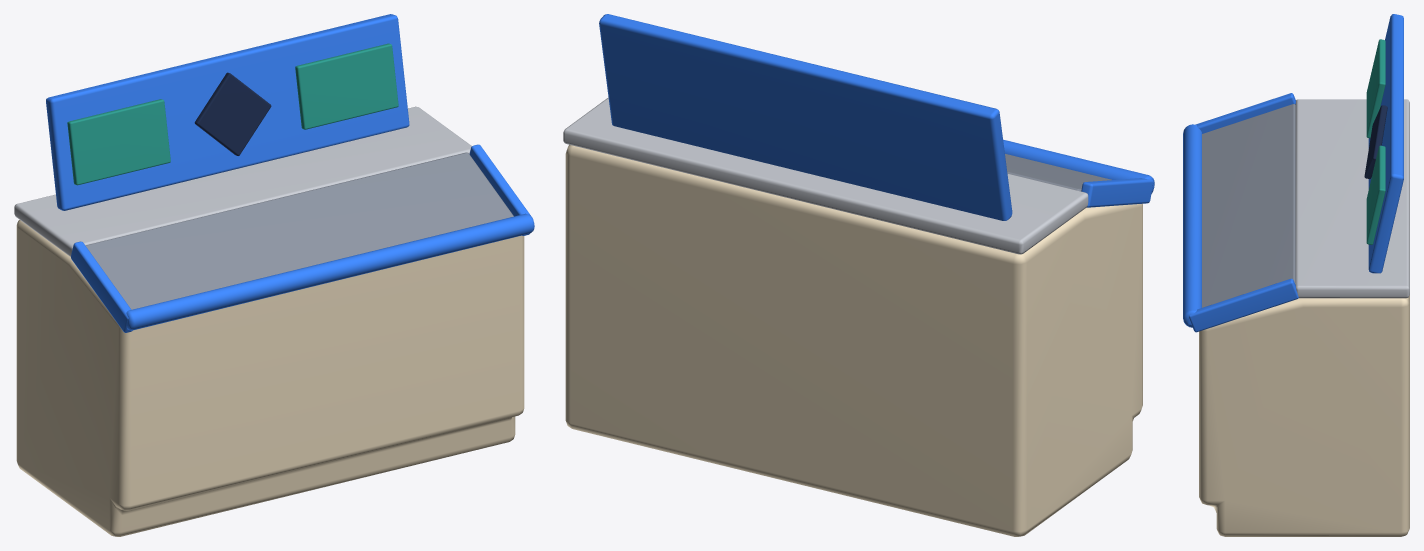
Rendered from Console_MissionPlanner.glb.
3 views of the same model, side by side, from view 1: azimuth 30°, elevation 25°; view 2: azimuth 150°, elevation 25°; view 3: azimuth 270°, elevation 25° (orthographic). The views are drawn at different scales.
Parts seen in each view (by area): view 1: Console_MissionPlanner.Body, Console_MissionPlanner.Panel, Console_MissionPlanner.Board, Console_MissionPlanner.Top, Console_MissionPlanner.Rim, Console_MissionPlanner.Screen_R, Console_MissionPlanner.Screen_L, Console_MissionPlanner.Icon; view 2: Console_MissionPlanner.Body, Console_MissionPlanner.Board, Console_MissionPlanner.Top, Console_MissionPlanner.Rim, Console_MissionPlanner.Panel; view 3: Console_MissionPlanner.Body, Console_MissionPlanner.Top, Console_MissionPlanner.Panel, Console_MissionPlanner.Rim, Console_MissionPlanner.Board, Console_MissionPlanner.Screen_R, Console_MissionPlanner.Screen_L, Console_MissionPlanner.Icon.
Boxes of the visible parts, x1,y1,x2,y2 form: Console_MissionPlanner.Body: (16, 220, 524, 536); Console_MissionPlanner.Panel: (85, 152, 513, 309); Console_MissionPlanner.Board: (46, 14, 409, 210); Console_MissionPlanner.Top: (14, 106, 471, 256); Console_MissionPlanner.Rim: (71, 144, 534, 332); Console_MissionPlanner.Screen_R: (295, 43, 398, 129); Console_MissionPlanner.Screen_L: (67, 99, 170, 185); Console_MissionPlanner.Icon: (194, 72, 271, 155); Console_MissionPlanner.Body: (565, 144, 1142, 536); Console_MissionPlanner.Board: (599, 14, 1012, 220); Console_MissionPlanner.Top: (563, 97, 1088, 254); Console_MissionPlanner.Rim: (1003, 139, 1154, 207); Console_MissionPlanner.Panel: (1005, 154, 1111, 191); Console_MissionPlanner.Body: (1199, 295, 1409, 536); Console_MissionPlanner.Top: (1295, 99, 1409, 298); Console_MissionPlanner.Panel: (1202, 104, 1295, 307); Console_MissionPlanner.Rim: (1183, 93, 1298, 332); Console_MissionPlanner.Board: (1368, 14, 1403, 273); Console_MissionPlanner.Screen_R: (1366, 145, 1385, 244); Console_MissionPlanner.Screen_L: (1366, 39, 1385, 138); Console_MissionPlanner.Icon: (1364, 105, 1387, 178).
Bounding box in the file's own units: 1.29 × 1.11 × 0.6485.
Materials: 1 (1 with a texture image).
